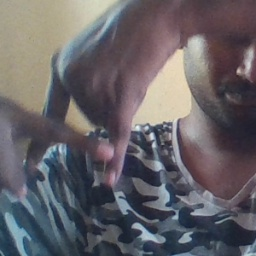H: (8, 61, 138, 202)
